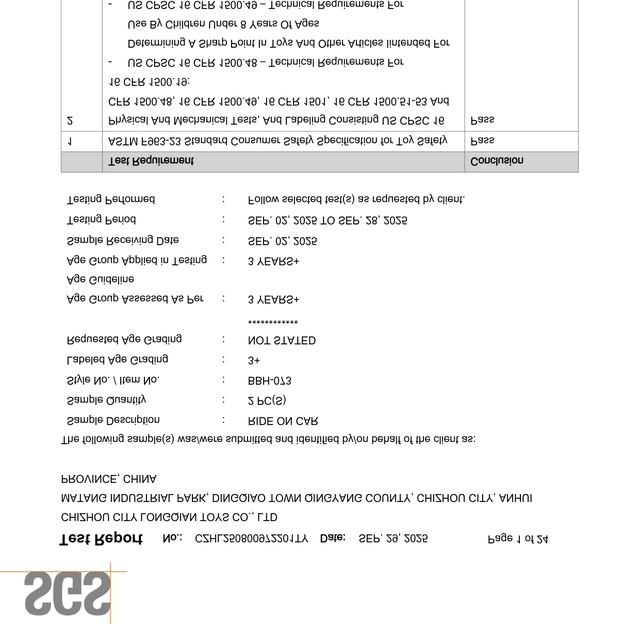sgs: (23, 571, 111, 616)
